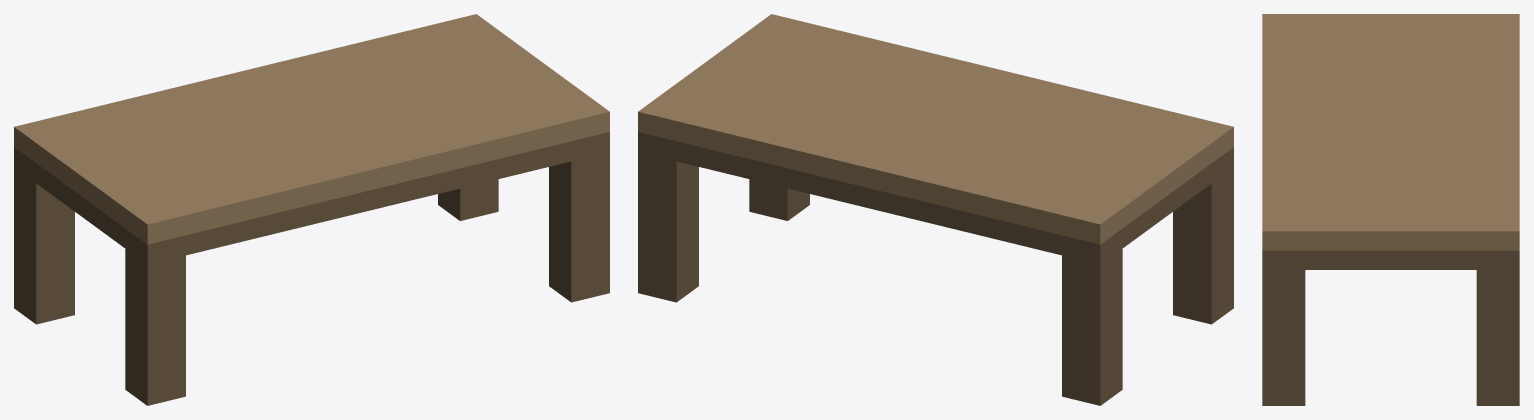
File: escritorio_roble_01.glb
The picture shows the model from 3 angles, left to right: view 1: azimuth 30°, elevation 25°; view 2: azimuth 150°, elevation 25°; view 3: azimuth 270°, elevation 25°; orthographic projection. The views are drawn at different scales.
Visible parts, largest first — view 1: escritorio_roble; view 2: escritorio_roble; view 3: escritorio_roble.
Boxes of the visible parts, x1,y1,x2,y2 form: escritorio_roble: (14, 14, 609, 405); escritorio_roble: (638, 14, 1233, 405); escritorio_roble: (1262, 14, 1519, 405).
Bounding box in the file's own units: 2 × 0.75 × 1.
